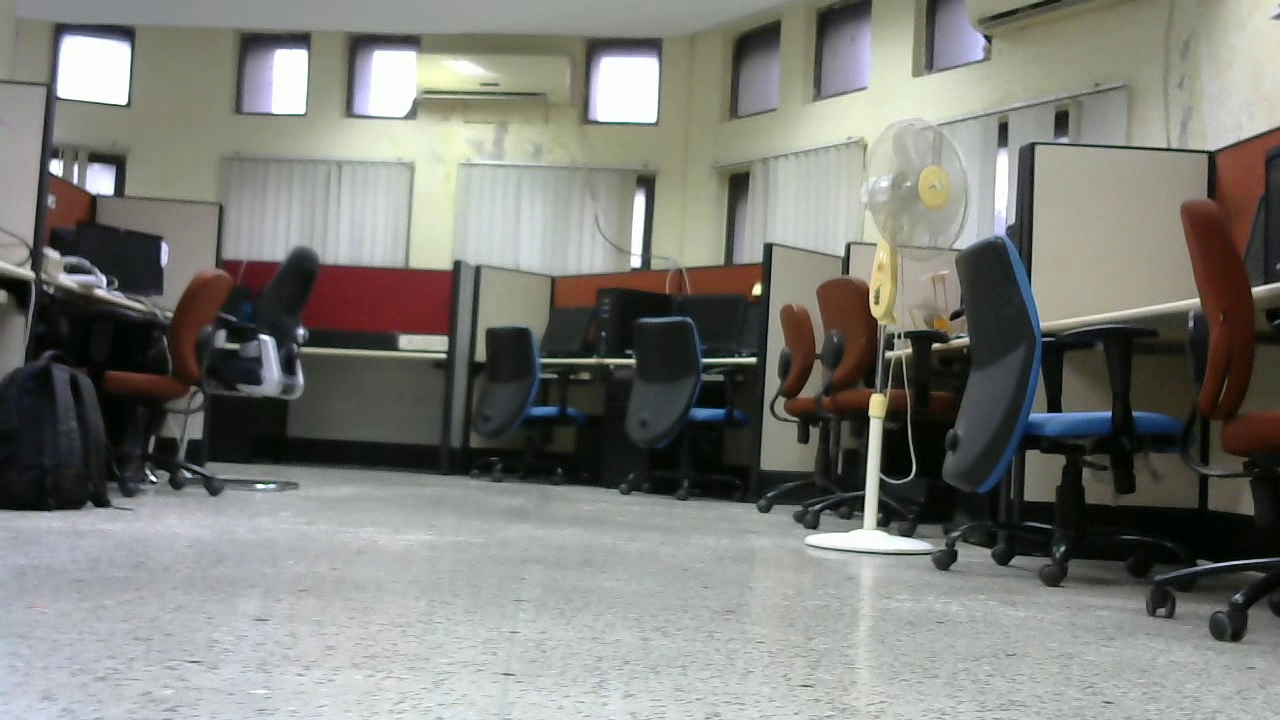chair: (929, 235, 1181, 591), (761, 277, 952, 528), (184, 241, 314, 493), (606, 314, 758, 504), (88, 262, 232, 414), (465, 326, 593, 479)
